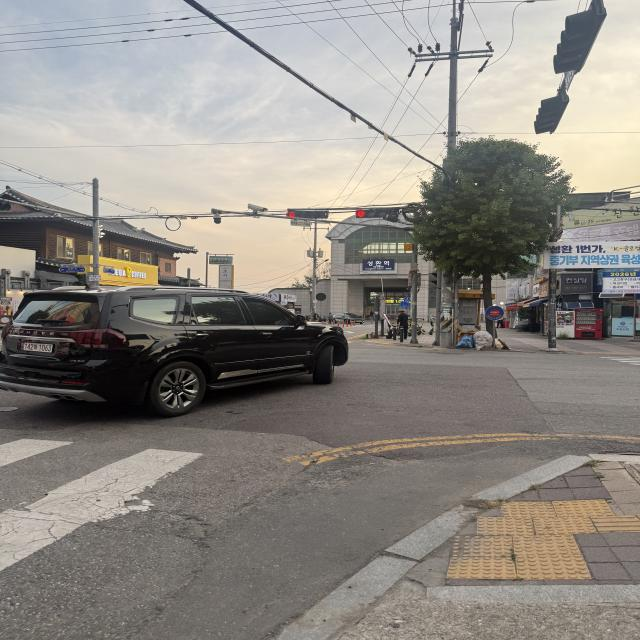car: (0, 280, 362, 424)
